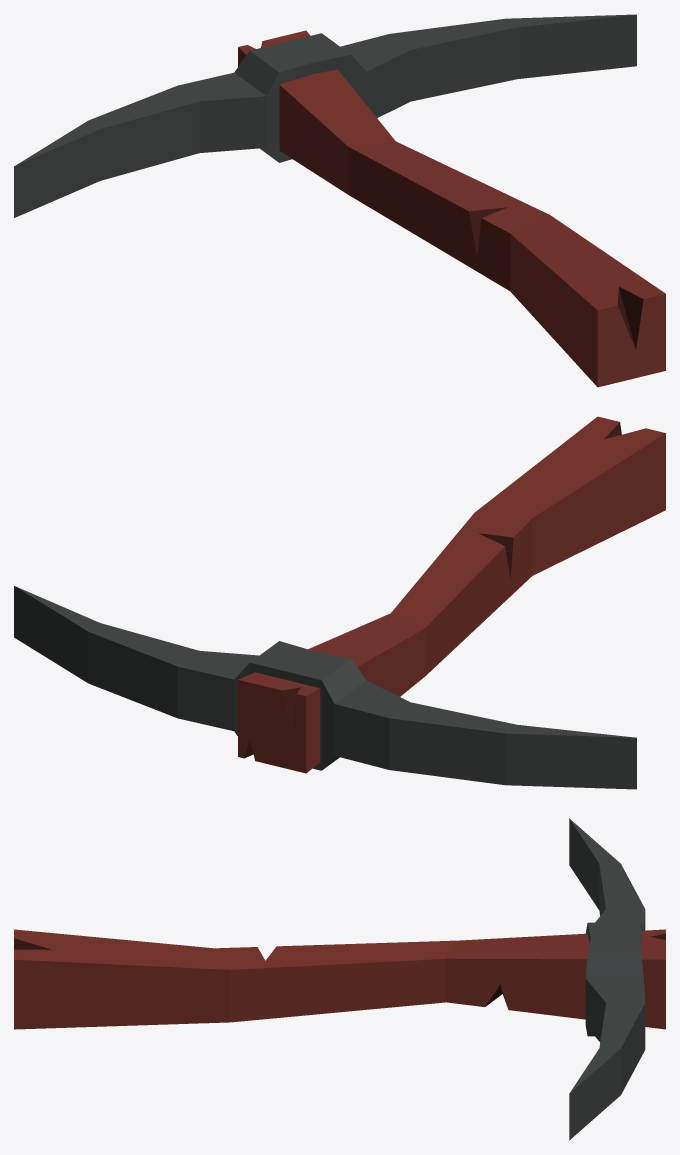
File: Pickaxe_1_Red.fbx
The picture shows the model from 3 angles, top to bottom: view 1: azimuth 30°, elevation 25°; view 2: azimuth 150°, elevation 25°; view 3: azimuth 270°, elevation 25°; orthographic projection. The views are drawn at different scales.
Parts seen in each view (by area): view 1: Pickaxe_1_Red_Part_3, Pickaxe_1_Red_Part_1, Pickaxe_1_Red_Part_2; view 2: Pickaxe_1_Red_Part_3, Pickaxe_1_Red_Part_1, Pickaxe_1_Red_Part_2; view 3: Pickaxe_1_Red_Part_1, Pickaxe_1_Red_Part_3.
Part boxes in pixels (x1,y1,x2,y2): Pickaxe_1_Red_Part_3: (14,14,636,217); Pickaxe_1_Red_Part_1: (238,30,665,387); Pickaxe_1_Red_Part_2: (261,43,643,349); Pickaxe_1_Red_Part_3: (14,586,636,789); Pickaxe_1_Red_Part_1: (238,416,665,773); Pickaxe_1_Red_Part_2: (244,422,621,757); Pickaxe_1_Red_Part_1: (14,929,665,1029); Pickaxe_1_Red_Part_3: (569,818,645,1140).
Bounding box in the file's own units: 50 × 6.94 × 50.
